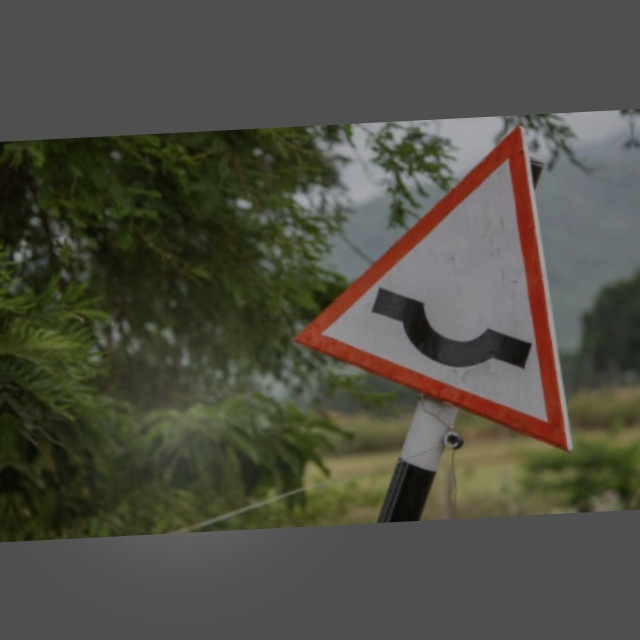Dangerous_Dip: (281, 126, 579, 448)
